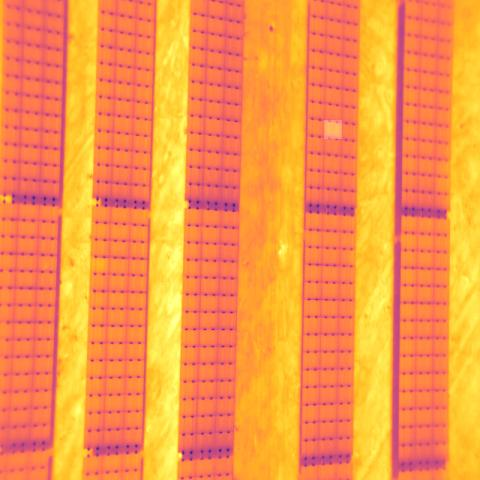fault: (324, 120, 342, 139)
